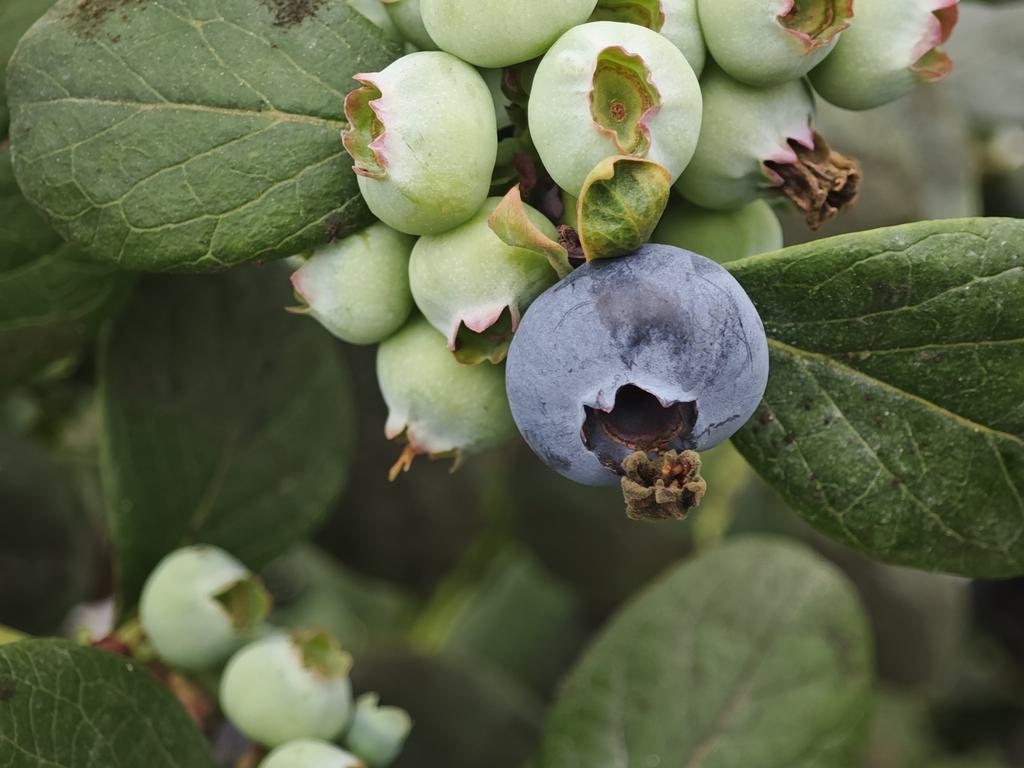RipeBlueBerry: (508, 239, 776, 519)
UnripeBlueBerry: (517, 22, 706, 208), (341, 49, 508, 230)
